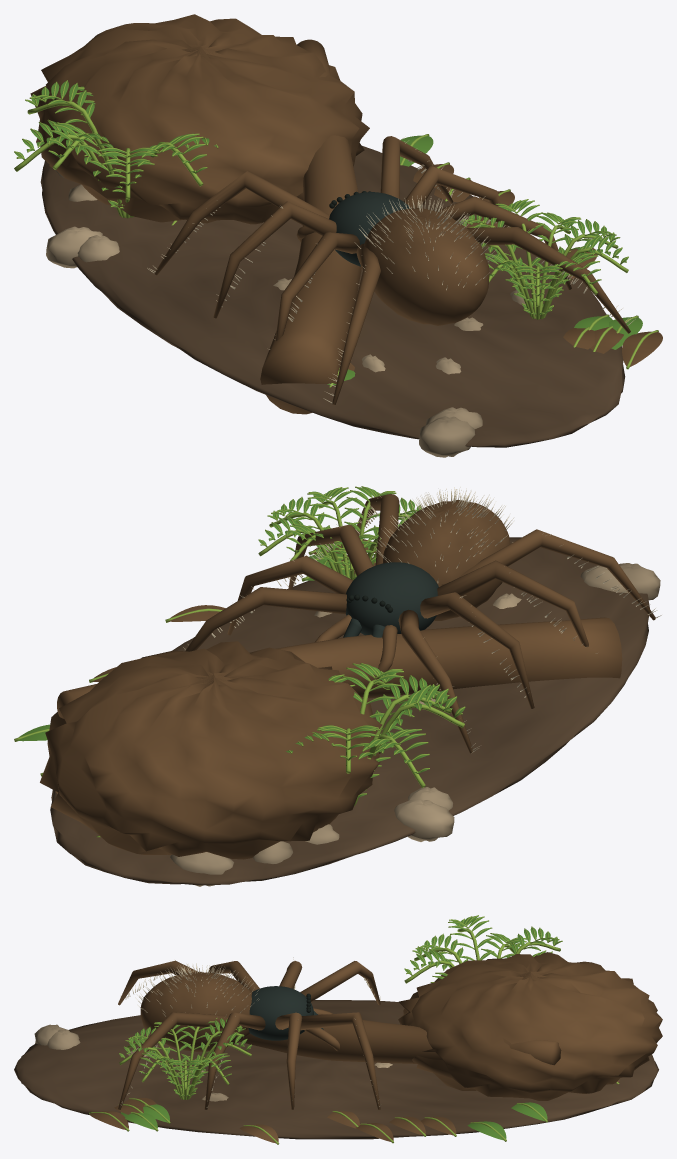
The picture shows the model from 3 angles, top to bottom: view 1: azimuth 30°, elevation 25°; view 2: azimuth 150°, elevation 25°; view 3: azimuth 270°, elevation 25°; orthographic projection. The views are drawn at different scales.
Visible parts, largest first — view 1: B14_SPEC_Bark_export, B14_SPEC_Substrate_export, B14_SPEC_Leaf new growth_export, B14_SPEC_Leaf jade_export, B14_SPEC_Matrix sandstone_export, B14_SPEC_Chitin_export, B14_SPEC_Ivory_export; view 2: B14_SPEC_Bark_export, B14_SPEC_Substrate_export, B14_SPEC_Leaf new growth_export, B14_SPEC_Matrix sandstone_export, B14_SPEC_Leaf jade_export, B14_SPEC_Chitin_export, B14_SPEC_Ivory_export; view 3: B14_SPEC_Bark_export, B14_SPEC_Substrate_export, B14_SPEC_Leaf new growth_export, B14_SPEC_Leaf jade_export, B14_SPEC_Chitin_export, B14_SPEC_Matrix sandstone_export, B14_SPEC_Ivory_export.
Part boxes in pixels (x1,y1,x2,y2): B14_SPEC_Bark_export: (30,14,662,414); B14_SPEC_Substrate_export: (40,146,625,447); B14_SPEC_Leaf new growth_export: (14,80,658,387); B14_SPEC_Leaf jade_export: (14,81,642,385); B14_SPEC_Matrix sandstone_export: (46,170,525,457); B14_SPEC_Chitin_export: (329,192,410,266); B14_SPEC_Ivory_export: (147,136,635,403); B14_SPEC_Bark_export: (40,493,655,859); B14_SPEC_Substrate_export: (50,537,649,885); B14_SPEC_Leaf new growth_export: (14,486,465,837); B14_SPEC_Matrix sandstone_export: (170,563,660,886); B14_SPEC_Leaf jade_export: (17,487,464,797); B14_SPEC_Chitin_export: (343,562,438,637); B14_SPEC_Ivory_export: (183,487,661,752); B14_SPEC_Bark_export: (89,952,662,1143); B14_SPEC_Substrate_export: (14,1000,658,1139); B14_SPEC_Leaf new growth_export: (89,915,619,1144); B14_SPEC_Leaf jade_export: (119,916,561,1140); B14_SPEC_Chitin_export: (248,986,323,1040); B14_SPEC_Matrix sandstone_export: (34,1024,392,1101); B14_SPEC_Ivory_export: (120,957,380,1107).
Bounding box in the file's own units: 1.18 × 0.4379 × 2.17.
